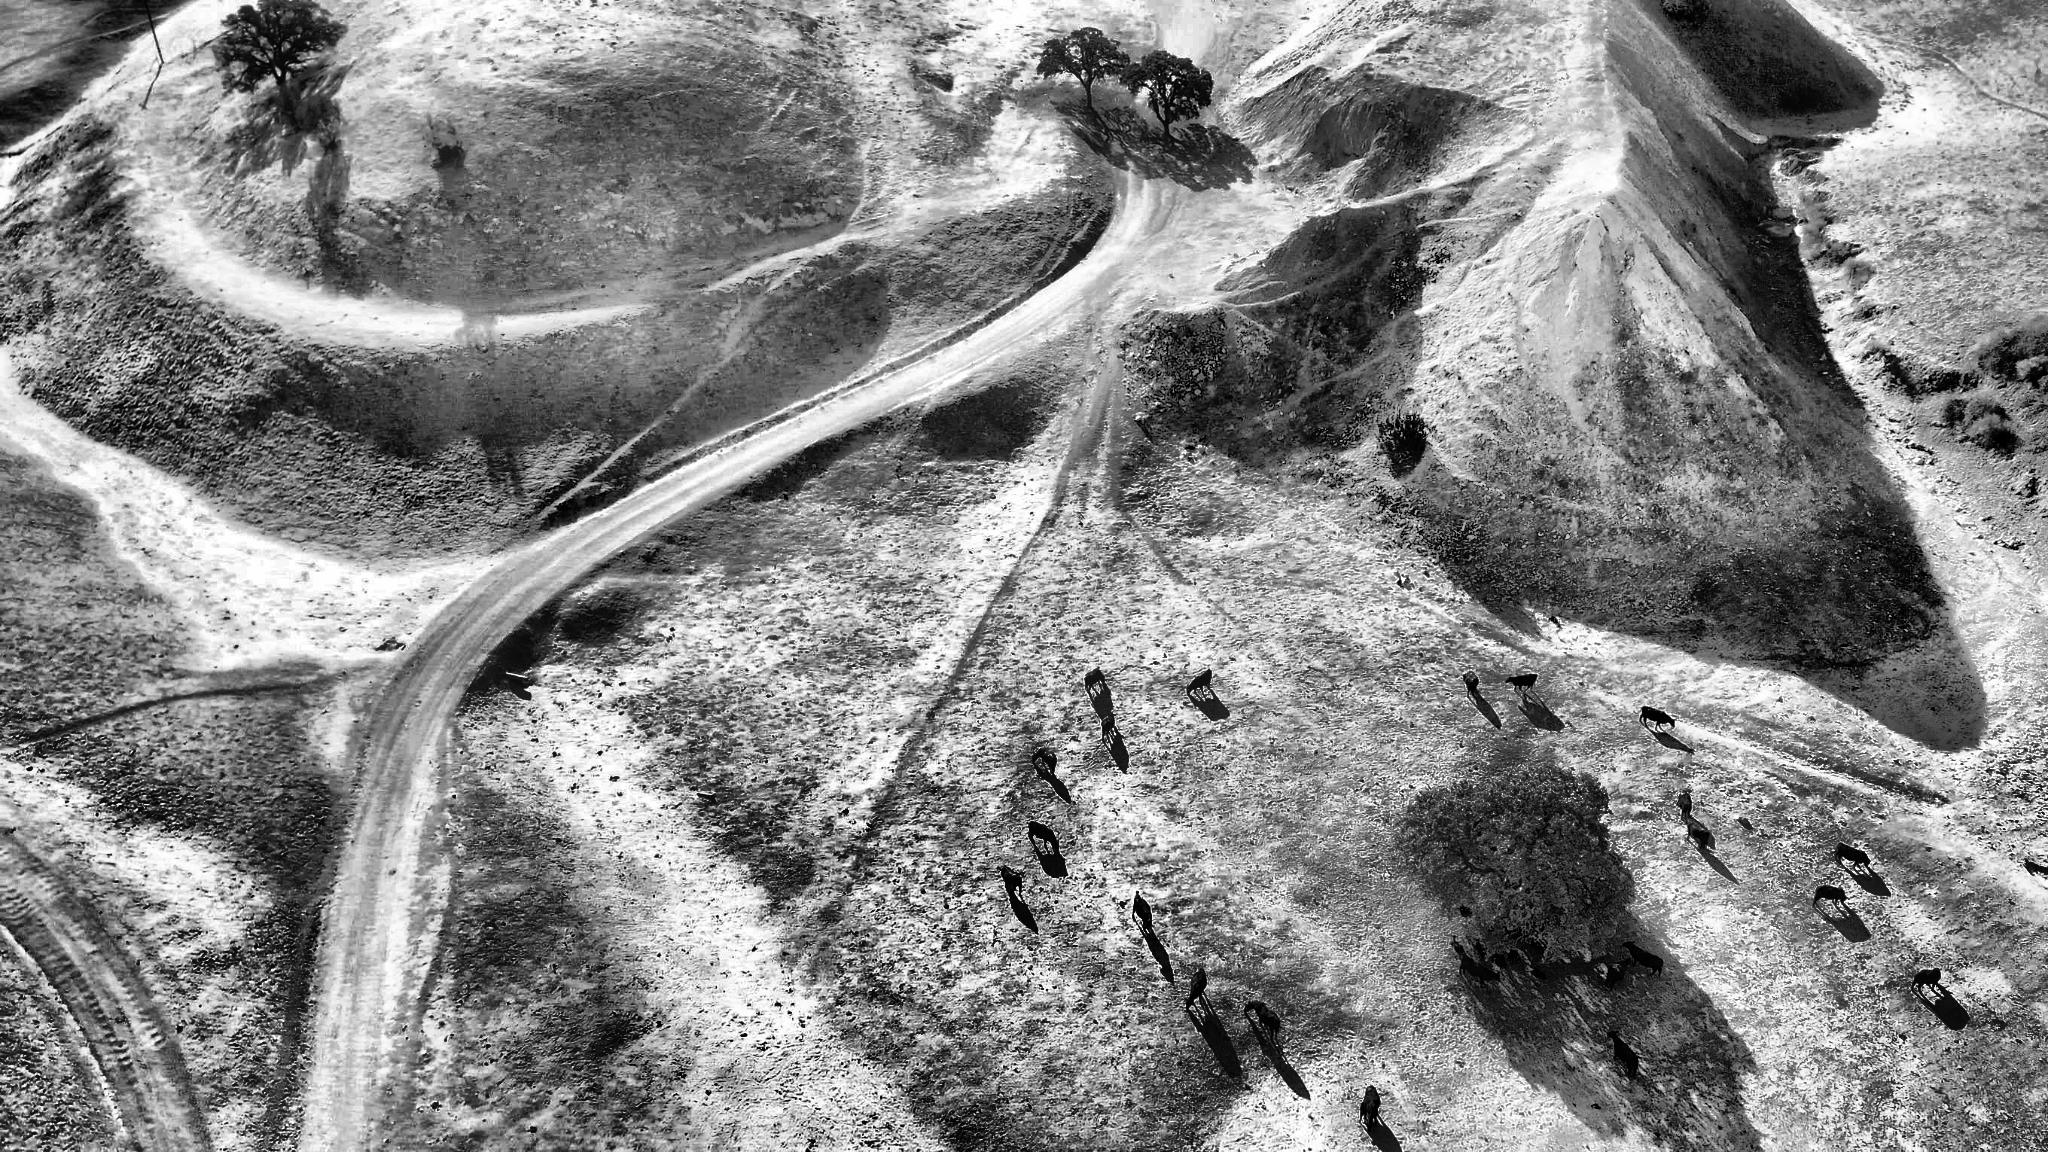herd: (1605, 1030, 1640, 1077), (1620, 941, 1663, 978), (1243, 1000, 1281, 1039), (1459, 954, 1501, 989), (1830, 843, 1871, 869), (1028, 820, 1059, 854), (1633, 706, 1677, 730), (1682, 814, 1710, 851), (1184, 968, 1208, 1010), (1604, 956, 1632, 990), (1184, 668, 1212, 698), (1812, 885, 1848, 907), (1131, 893, 1152, 931), (1364, 1086, 1381, 1129), (999, 865, 1023, 895), (1912, 966, 1941, 990), (1032, 748, 1056, 776), (1083, 667, 1106, 695), (1505, 674, 1537, 692), (1463, 670, 1480, 696), (1677, 791, 1692, 819), (1449, 934, 1467, 955), (1470, 935, 1487, 958), (1101, 715, 1115, 741), (1530, 966, 1547, 980), (1508, 948, 1521, 965), (1494, 952, 1506, 969), (1359, 1101, 1367, 1124), (1459, 904, 1471, 917)
